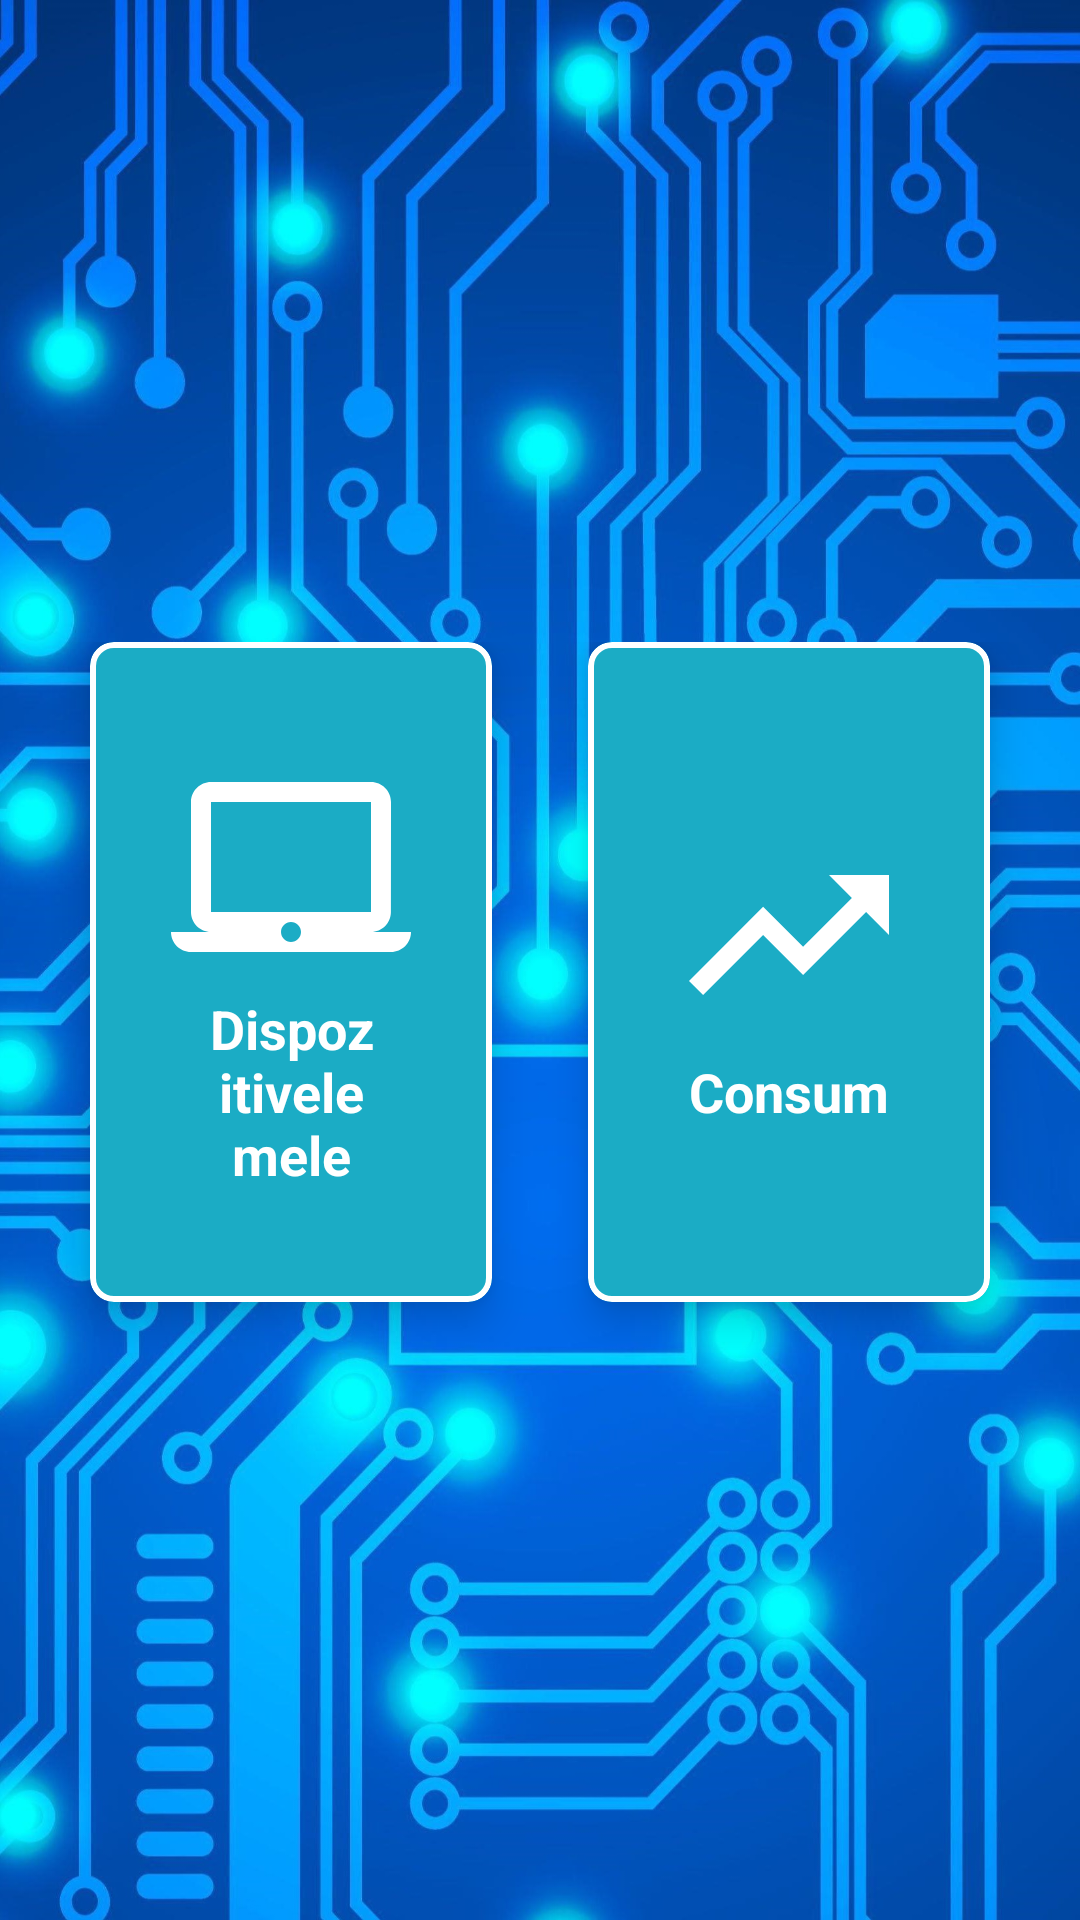

Named icons in this screenshot (1080w x 1920h) and their bounding boxes, box(x1, y1, x2, y2):
trending up: box(689, 875, 889, 995)
